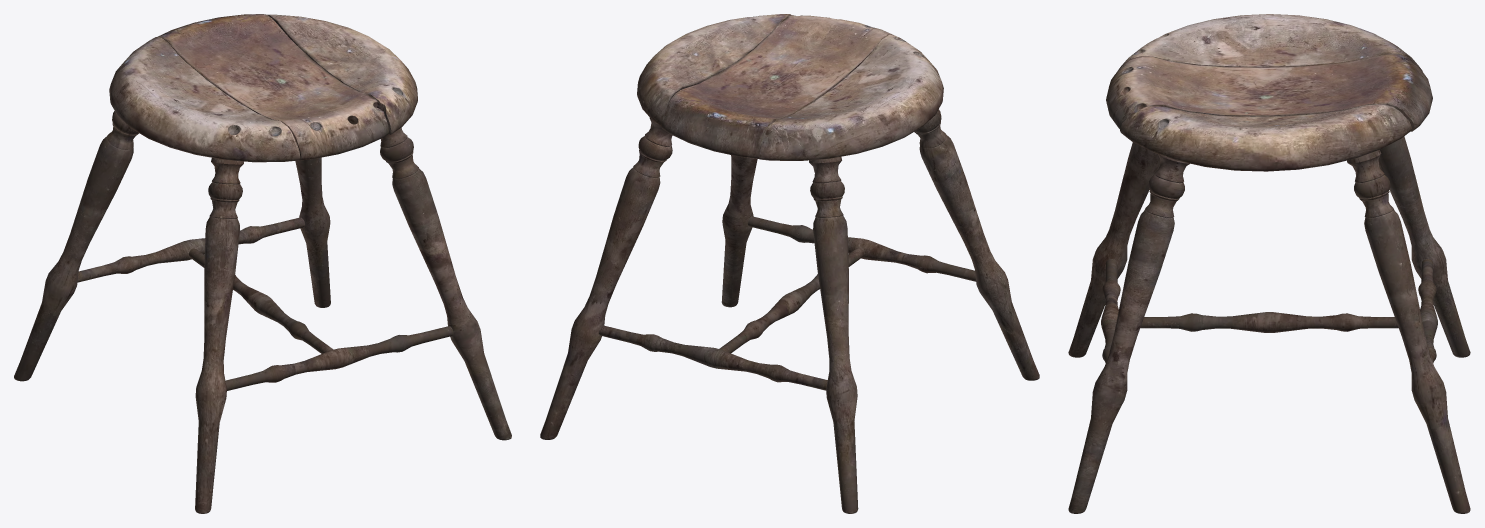
File: wooden_stool_01.glb
3 views of the same model, side by side, from view 1: azimuth 30°, elevation 25°; view 2: azimuth 150°, elevation 25°; view 3: azimuth 270°, elevation 25° (orthographic). The views are drawn at different scales.
Parts seen in each view (by area): view 1: wooden_stool_01; view 2: wooden_stool_01; view 3: wooden_stool_01.
Boxes of the visible parts, left/top/right/bottom form: wooden_stool_01: left=14, top=14, right=511, bottom=513; wooden_stool_01: left=540, top=14, right=1039, bottom=513; wooden_stool_01: left=1068, top=14, right=1470, bottom=513.
Bounding box in the file's own units: 0.4254 × 0.4373 × 0.4424.
Materials: 1 (1 with a texture image).
